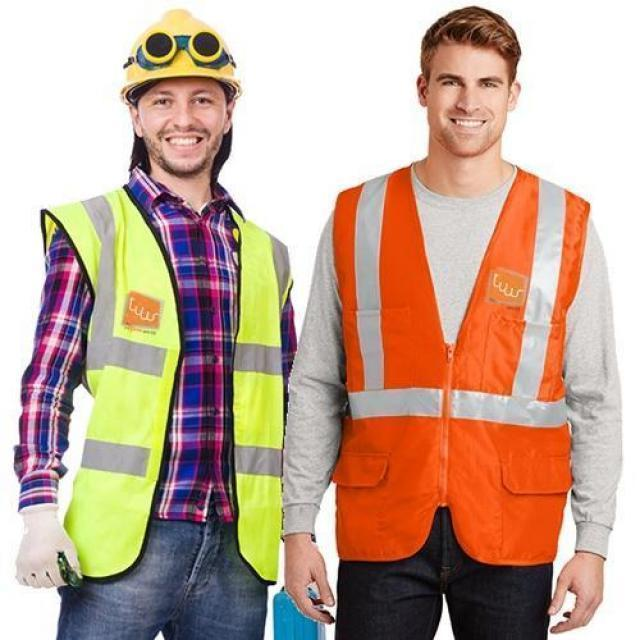helmet: (121, 2, 251, 112)
no-helmet: (420, 2, 526, 94)
vest: (328, 162, 598, 570), (35, 184, 294, 587)
